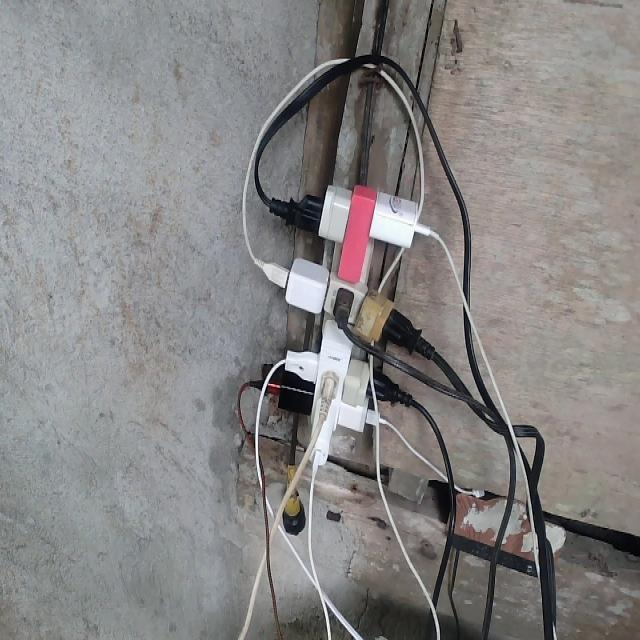-: (260, 178, 427, 470)
